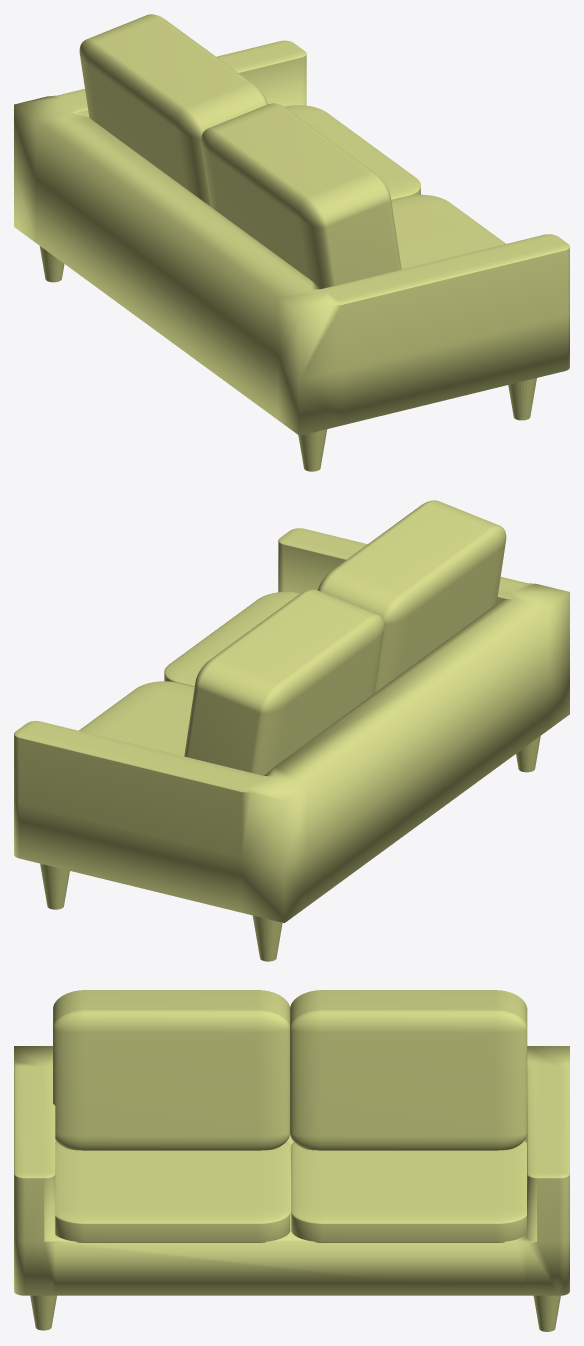
Rendered from Sofa.fbx.
The picture shows the model from 3 angles, top to bottom: view 1: azimuth 30°, elevation 25°; view 2: azimuth 150°, elevation 25°; view 3: azimuth 270°, elevation 25°; orthographic projection. The views are drawn at different scales.
Parts seen in each view (by area): view 1: Sofa; view 2: Sofa; view 3: Sofa.
Part boxes in pixels (<box>): Sofa: <box>14,14,569,471</box>; Sofa: <box>14,500,569,961</box>; Sofa: <box>14,990,569,1331</box>.
Bounding box in the file's own units: 8352 × 7562 × 14979.
